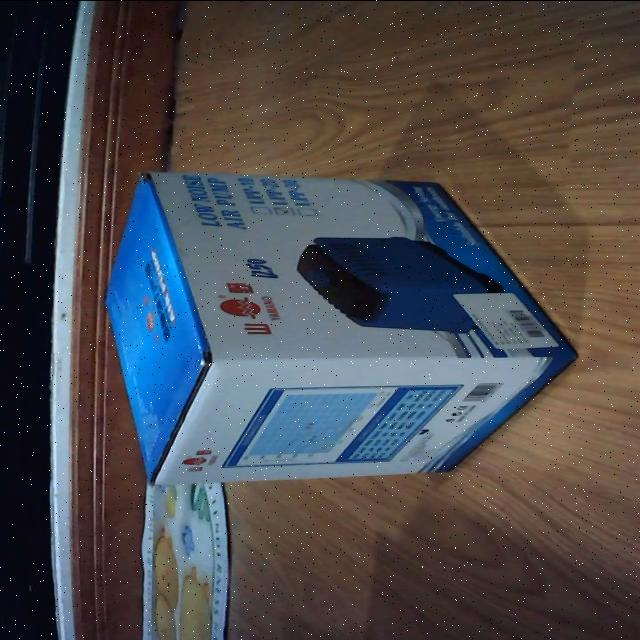YAMANO_LPP_20: (102, 154, 586, 488)
